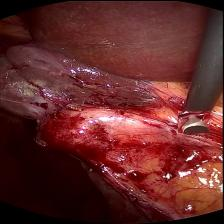Hook: (178, 110, 210, 132)
